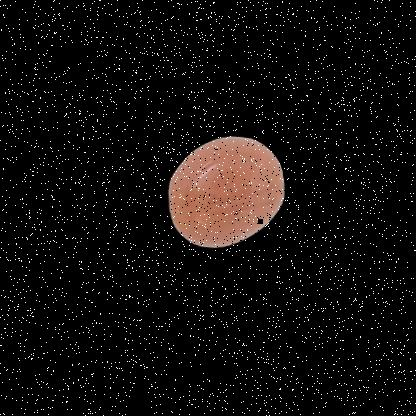opiqutan: (149, 114, 308, 276)
